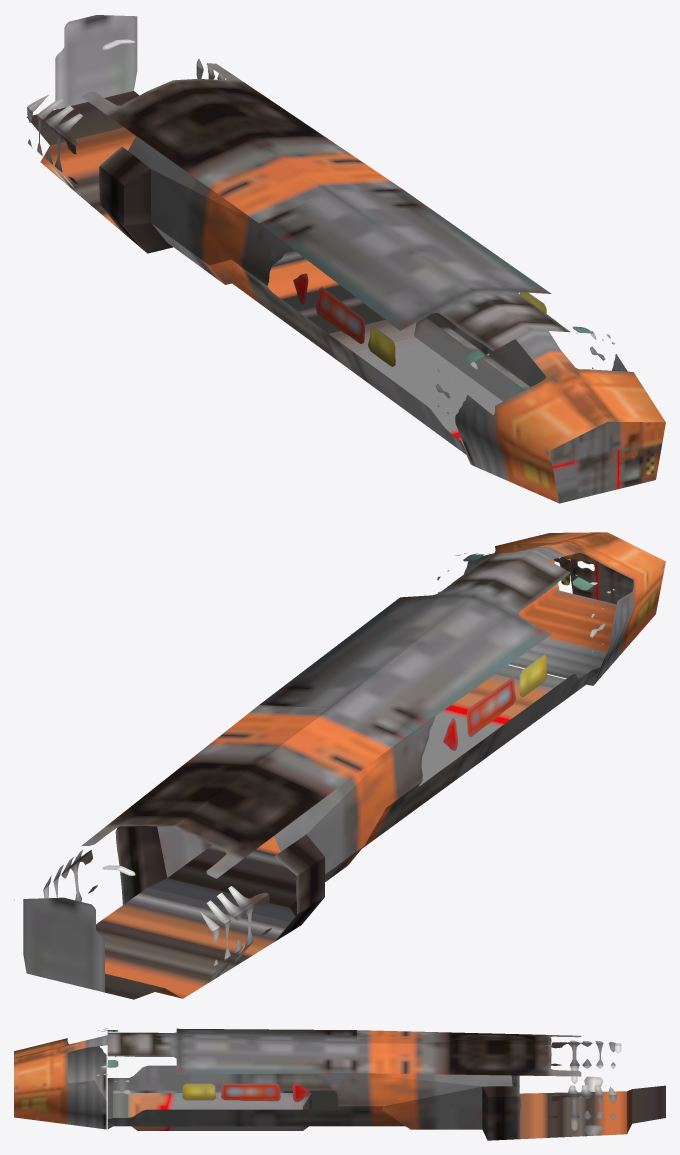
The model's file is LOD1-UVFlip.obj.
3 views of the same model, one above another, from view 1: azimuth 30°, elevation 25°; view 2: azimuth 150°, elevation 25°; view 3: azimuth 270°, elevation 25° (orthographic). The views are drawn at different scales.
Parts seen in each view (by area): view 1: PulsarGunUV; view 2: PulsarGunUV; view 3: PulsarGunUV.
Part boxes in pixels (x1,y1,x2,y2): PulsarGunUV: (27, 15, 665, 503); PulsarGunUV: (14, 532, 665, 999); PulsarGunUV: (14, 1028, 665, 1140).
Size of the model in its own units: 3.61 by 2.47 by 17.85.
